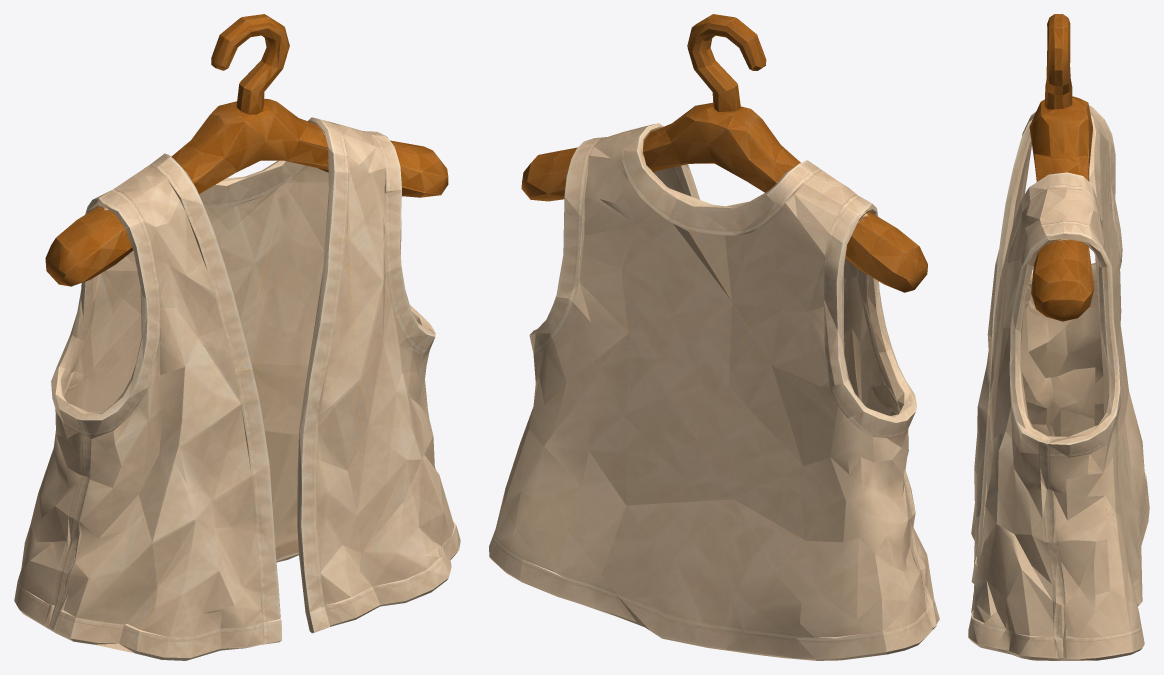
File: ephod.glb
3 renders of one model, left to right at view 1: azimuth 30°, elevation 25°; view 2: azimuth 150°, elevation 25°; view 3: azimuth 270°, elevation 25°, orthographic. The views are drawn at different scales.
Size of the model in its own units: 1.42 by 1.9 by 0.5418.
Materials: 1 (1 with a texture image).
